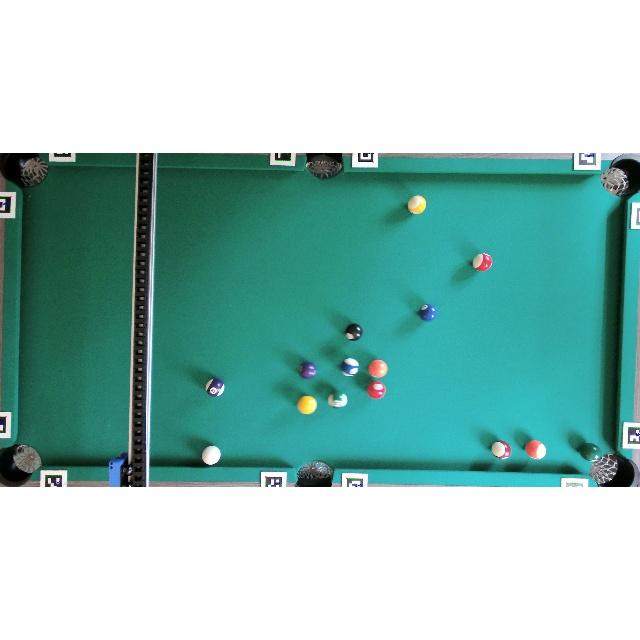cue ball: (201, 446, 221, 466)
other: (578, 442, 600, 462), (525, 440, 546, 460), (491, 440, 511, 460), (297, 395, 317, 414), (368, 359, 388, 378), (340, 358, 360, 377), (408, 195, 427, 214), (206, 378, 225, 397), (418, 304, 438, 322), (473, 253, 493, 271), (366, 381, 386, 399), (298, 361, 317, 379), (344, 323, 362, 341), (328, 392, 347, 408)
